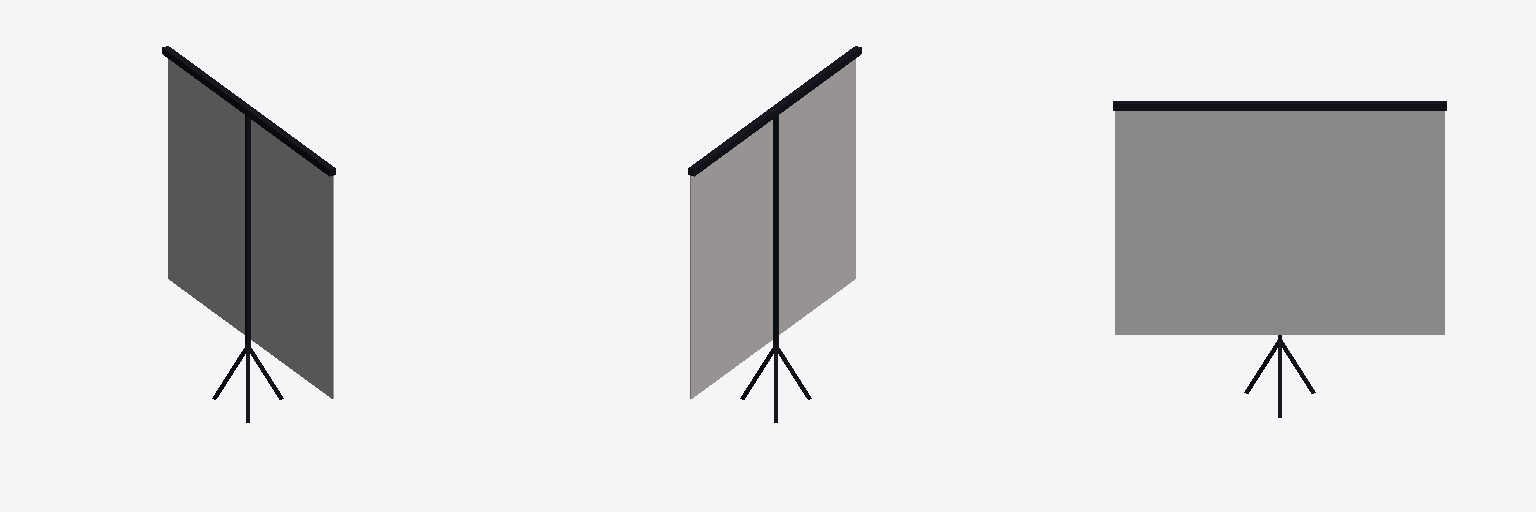
Rendered from ProjectorScreen.obj.
3 renders of one model, left to right at view 1: azimuth 30°, elevation 25°; view 2: azimuth 150°, elevation 25°; view 3: azimuth 270°, elevation 25°, orthographic.
Parts seen in each view (by area): view 1: 11, Part5, Part1; view 2: 11, Part5, Part1; view 3: 11, Part5.
Part boxes in pixels (x1,y1,x2,y2): 11: (168,59,333,398); Part5: (162,46,335,176); Part1: (245,115,250,346); 11: (690,59,855,398); Part5: (688,46,861,176); Part1: (773,115,778,346); 11: (1115,111,1444,334); Part5: (1113,101,1446,110).
Bounding box in the file's own units: 2.5 × 13.33 × 13.5.